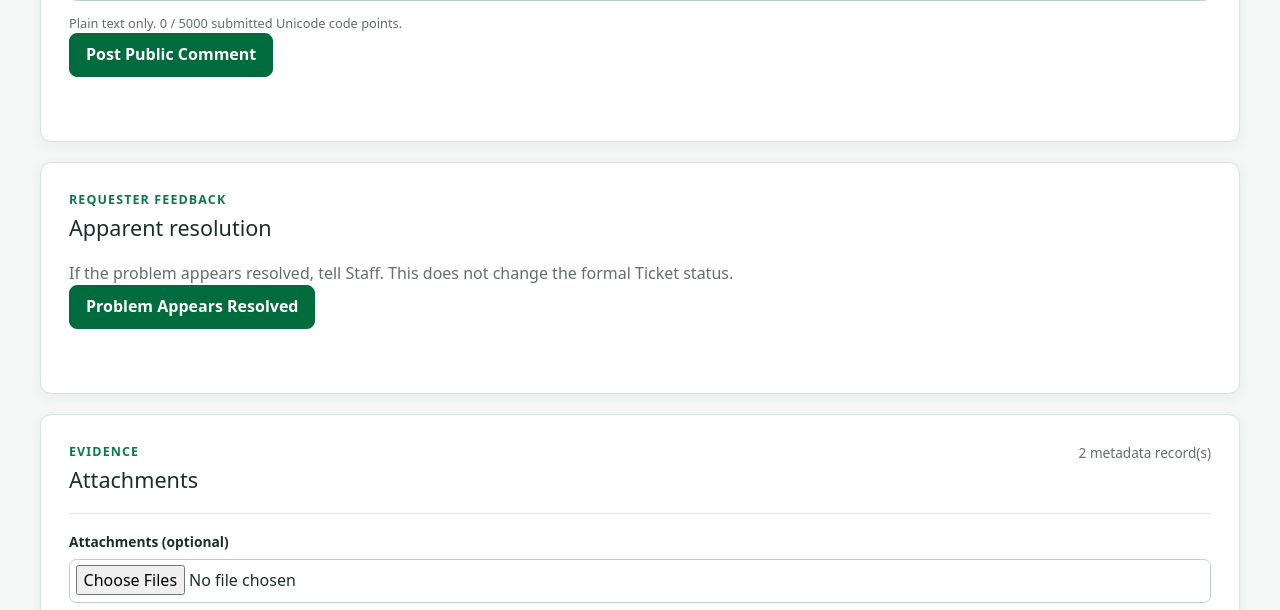
Requester Ticket Detail page › lets the owning Requester indicate apparent resolution
(page scrolled)
Click the button "Problem Appears Resolved" at (192, 307), box [69,285,316,329]
(page scrolled)
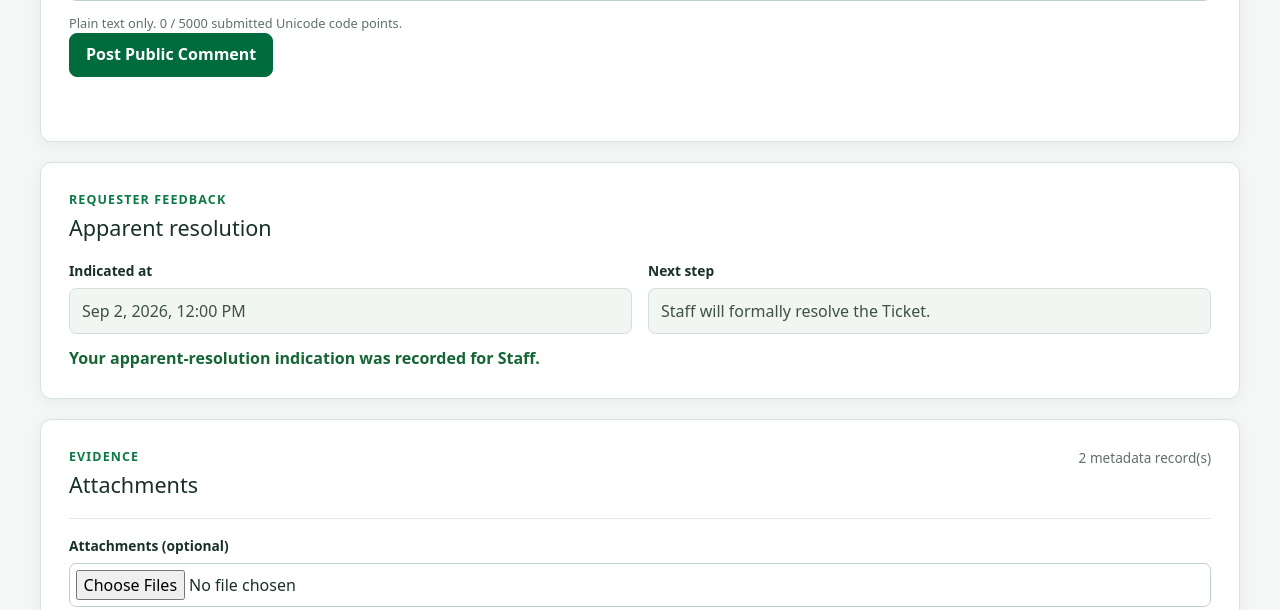
Expected: the text "Your apparent-resolution indication was recorded for Staff." is shown, [69,347,540,369]
Expected: the text "Staff will formally resolve the Ticket." is shown, [648,288,1211,334]
